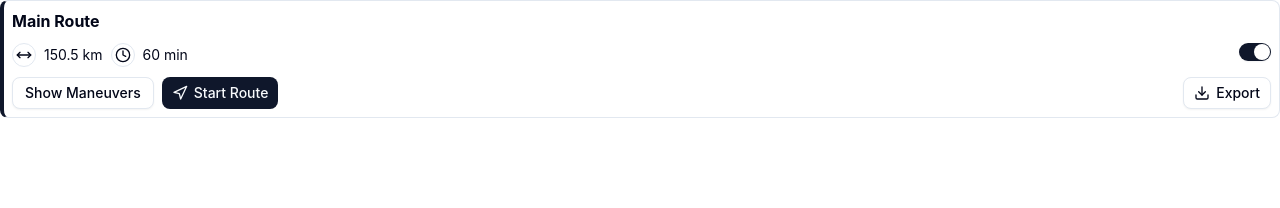
RouteCard › should show export dropdown menu when Export is clicked
What coordinates should you click on to do the following:
click the button "Export"
I would click on:
 (1227, 93)
Its box is [1183,77,1271,109].
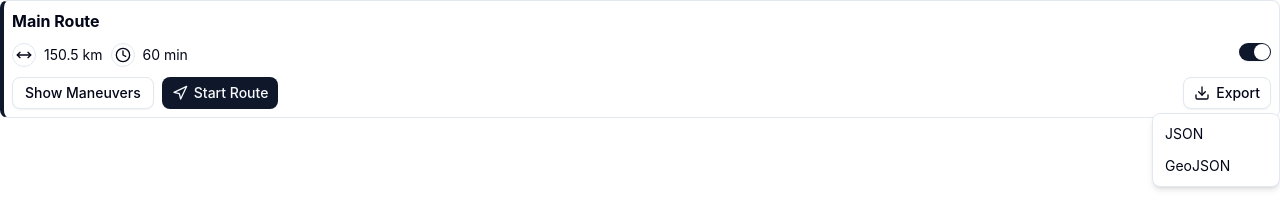
Check: the menu item "JSON" is shown, box [1165,125,1203,142]
Check: the menu item "GeoJSON" is shown, box [1165,157,1230,174]
